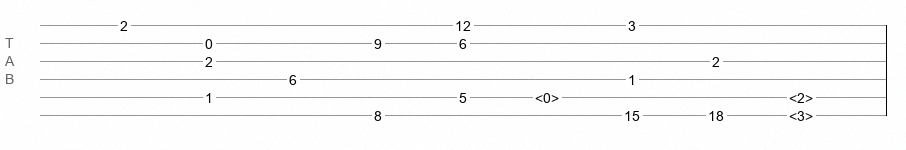0: (205, 36, 213, 46)
1: (205, 90, 213, 100), (628, 72, 636, 82)
12: (455, 18, 471, 28)
15: (624, 108, 640, 118)
18: (708, 108, 724, 118)
2: (120, 18, 128, 28), (205, 54, 213, 64), (712, 54, 720, 64)
3: (628, 18, 636, 28)
5: (459, 90, 467, 100)
6: (289, 72, 297, 82), (459, 36, 467, 46)
8: (374, 108, 382, 118)
9: (374, 36, 382, 46)
harmonic: (535, 90, 559, 100), (789, 108, 813, 118), (789, 90, 813, 100)
